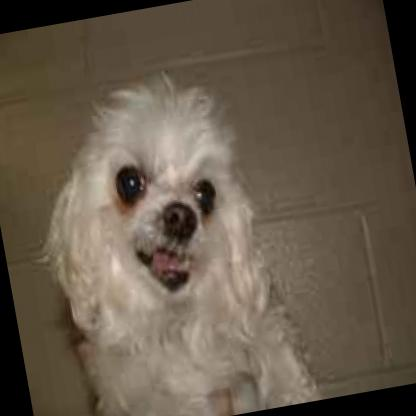toy_poodle: (7, 53, 323, 416)
